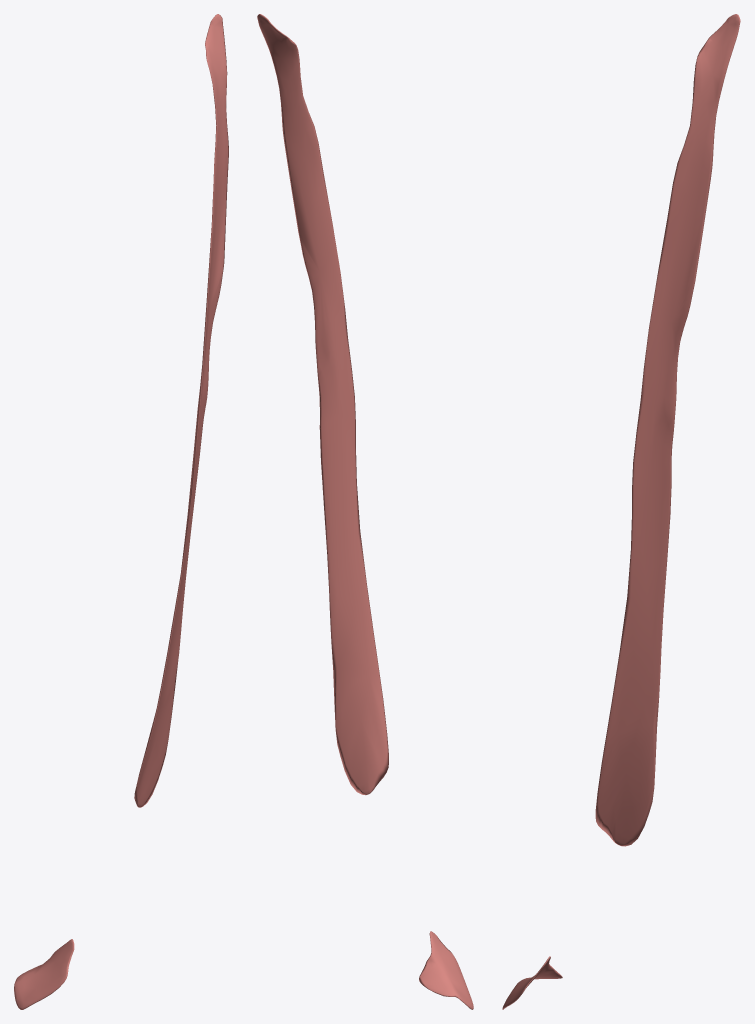
3 views of the same model, side by side, from view 1: azimuth 30°, elevation 25°; view 2: azimuth 150°, elevation 25°; view 3: azimuth 330°, elevation 25° (orthographic). The views are drawn at different scales.
Visible parts, largest first — view 1: ZA_fec976d6168312ef; view 2: ZA_fec976d6168312ef; view 3: ZA_fec976d6168312ef.
Boxes of the visible parts, x1,y1,x2,y2 form: ZA_fec976d6168312ef: (14, 14, 228, 1009); ZA_fec976d6168312ef: (257, 14, 473, 1009); ZA_fec976d6168312ef: (502, 14, 740, 1009).
Bounding box in the file's own units: 0.0736 × 0.317 × 0.0271.
